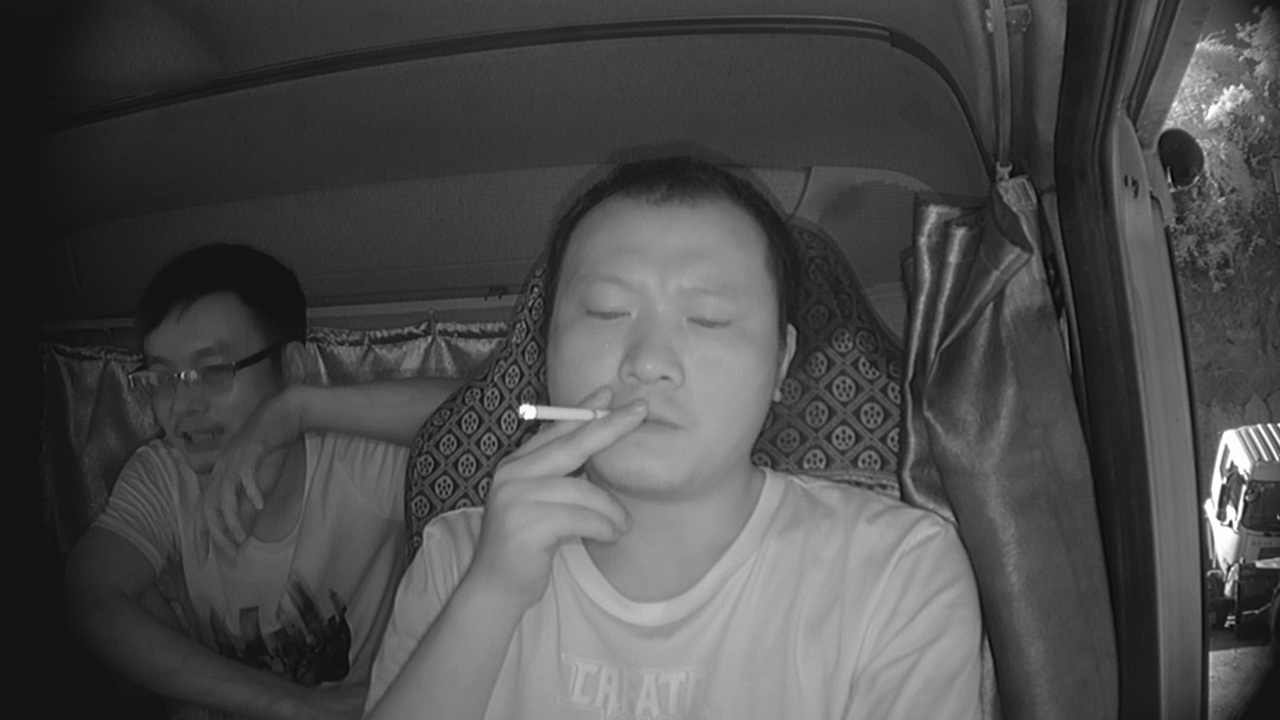hand: (483, 385, 644, 574)
